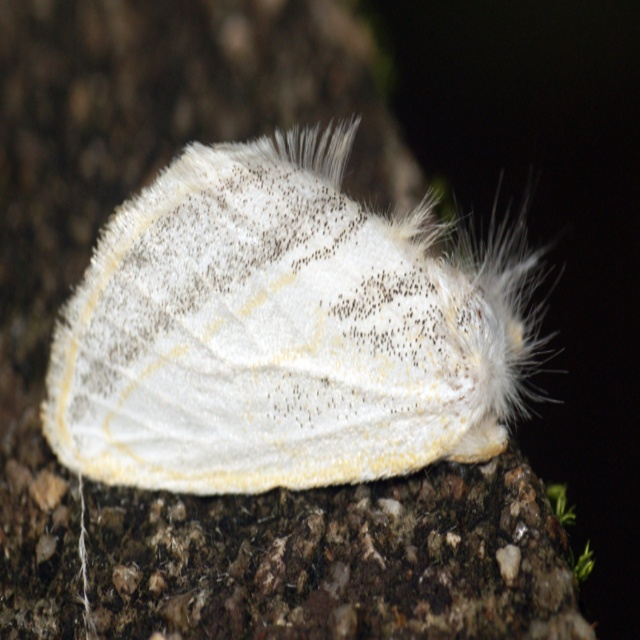Moths and butterflies: (41, 119, 565, 504)
